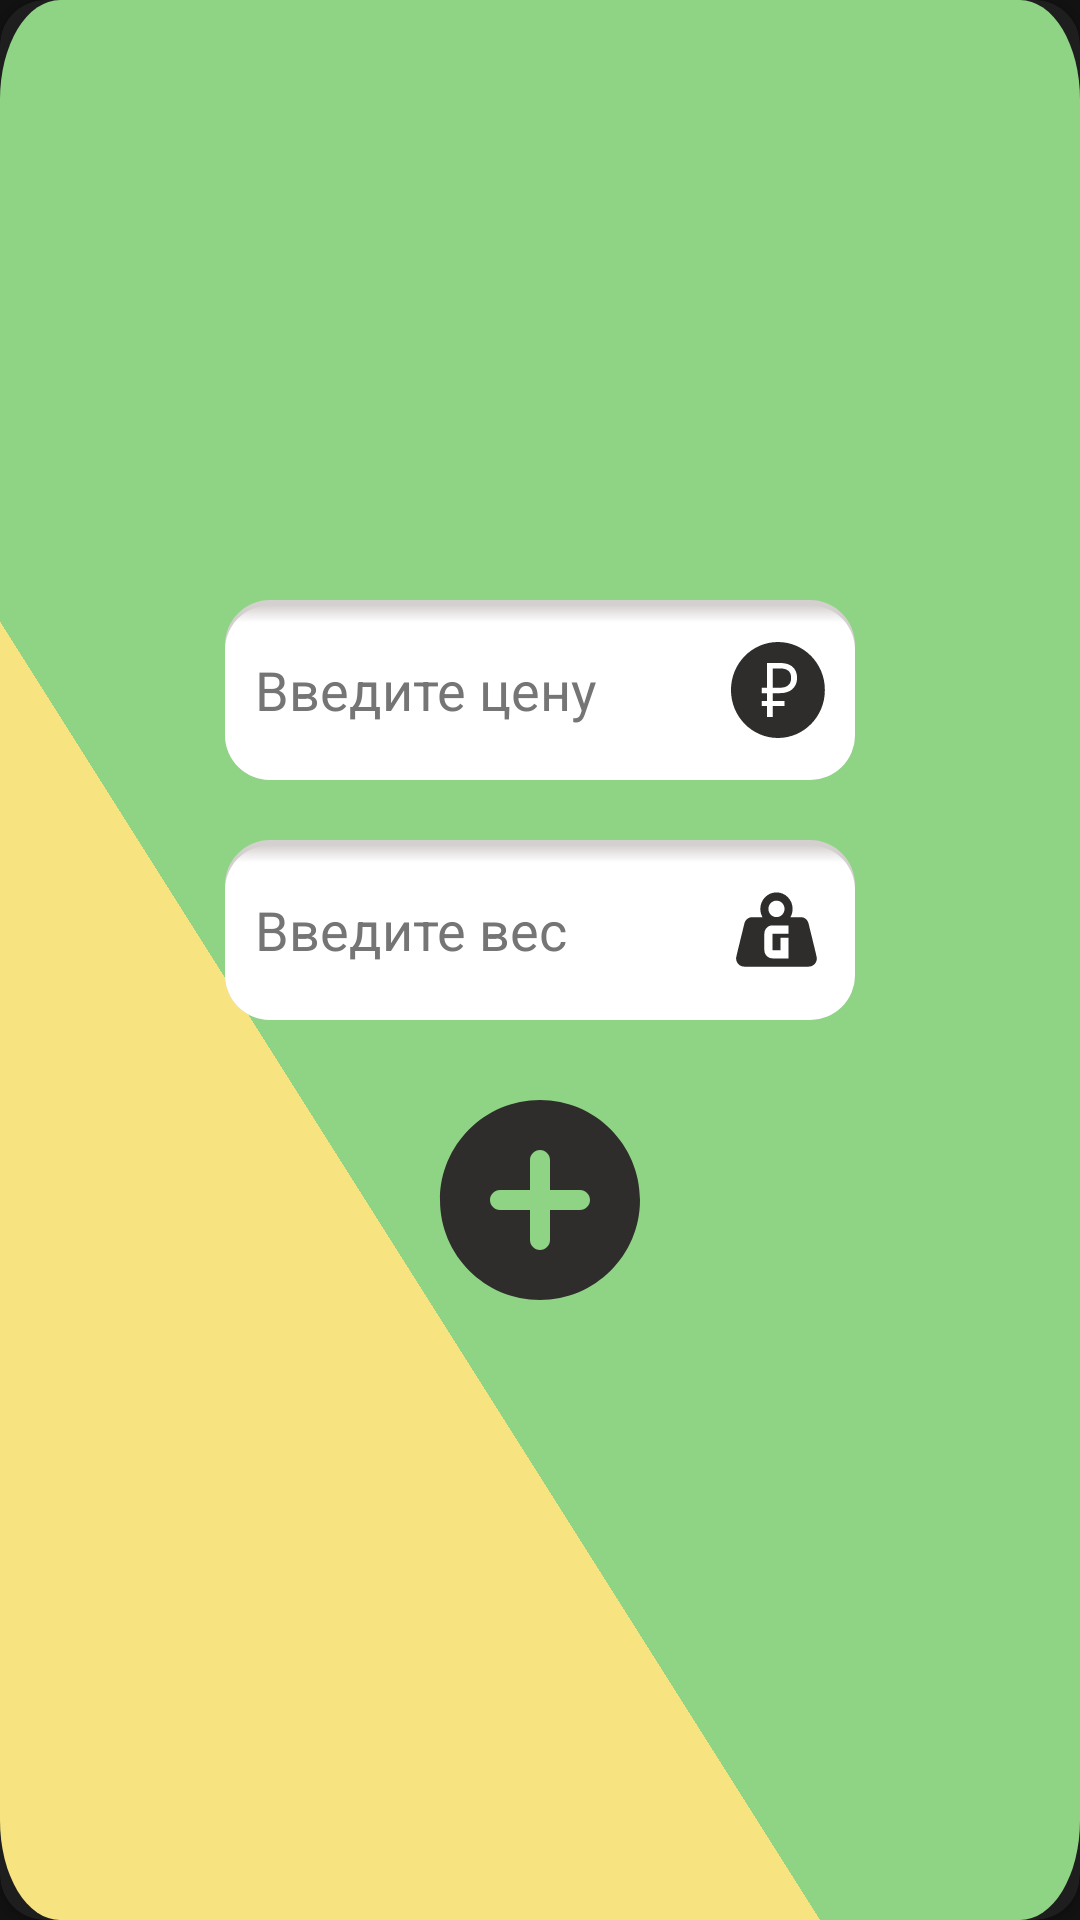

Screen size 1080px×1920px. Icon name, then its box in pixels as (x1, y1, x2, y2):
add circle: (440, 1100, 640, 1300)
